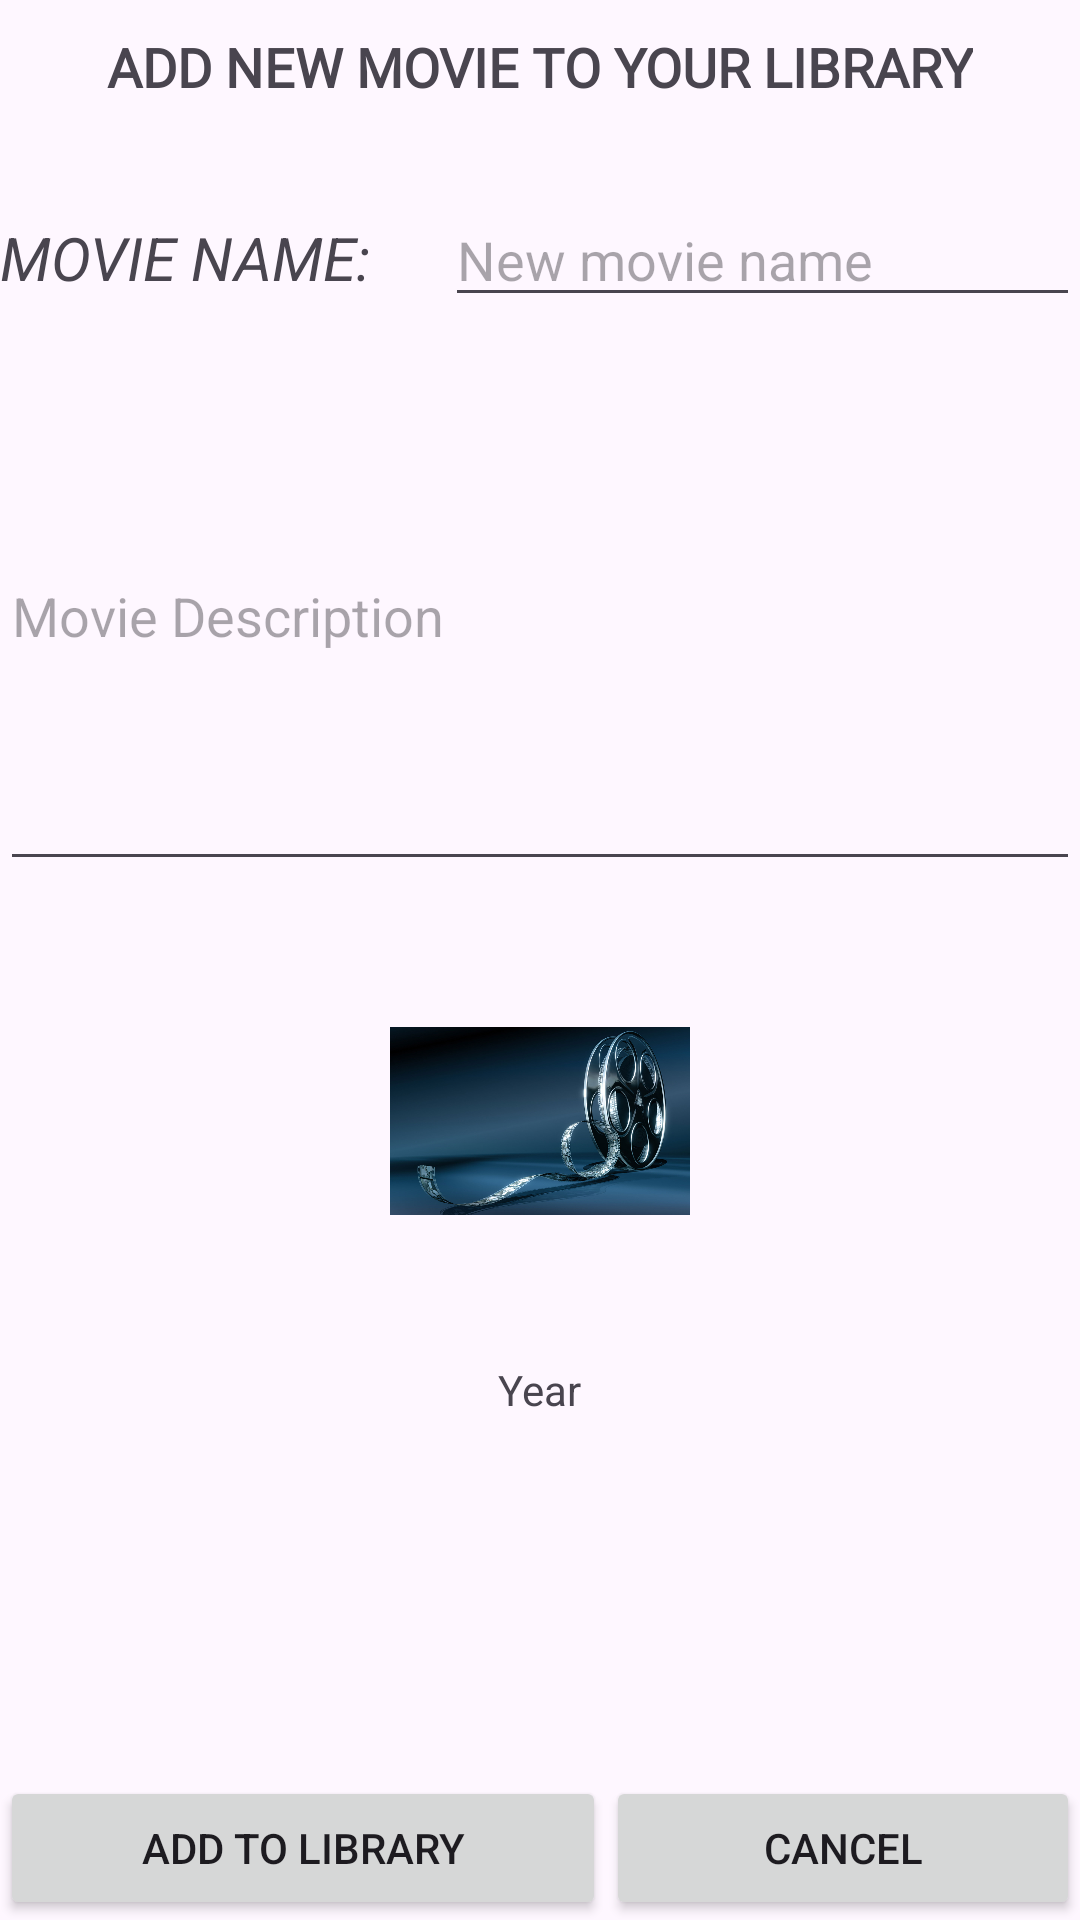

Point at icon controls on the screen. Image size 1080px×1920px, points as (x,y).
cinema: (540,1121)
